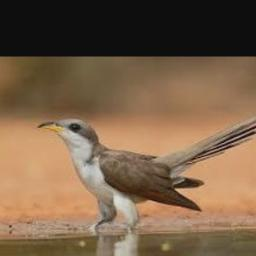Cuckoo: (37, 111, 256, 231)
